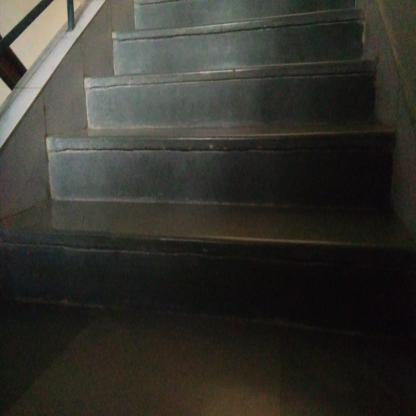stairs: (118, 35, 355, 335)
